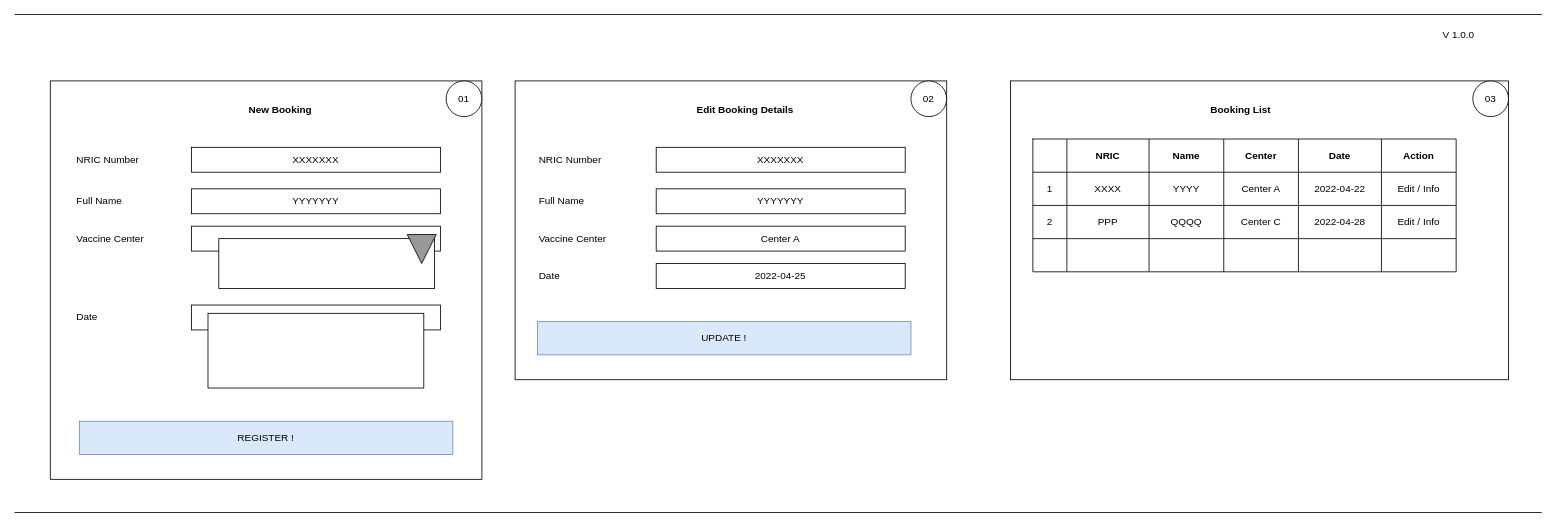
Image size: 1557x528. Some labels were removed from this diagram. The centre of each missing label's shape, as x and y in pixels:
Center A Center B Center C: pixel 326 263
DATE Pcker: pixel 315 350
